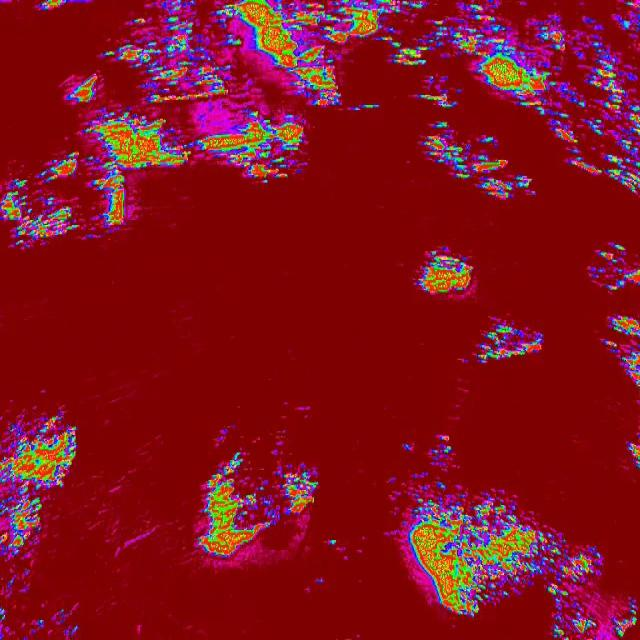fire: (104, 0, 373, 182), (373, 0, 640, 98), (404, 493, 552, 615), (0, 406, 79, 596), (192, 452, 314, 564), (67, 63, 182, 181), (2, 154, 132, 250), (416, 122, 540, 203), (517, 99, 640, 172), (554, 540, 640, 640), (587, 242, 640, 398), (464, 324, 544, 366), (415, 251, 479, 303), (612, 172, 640, 192)
